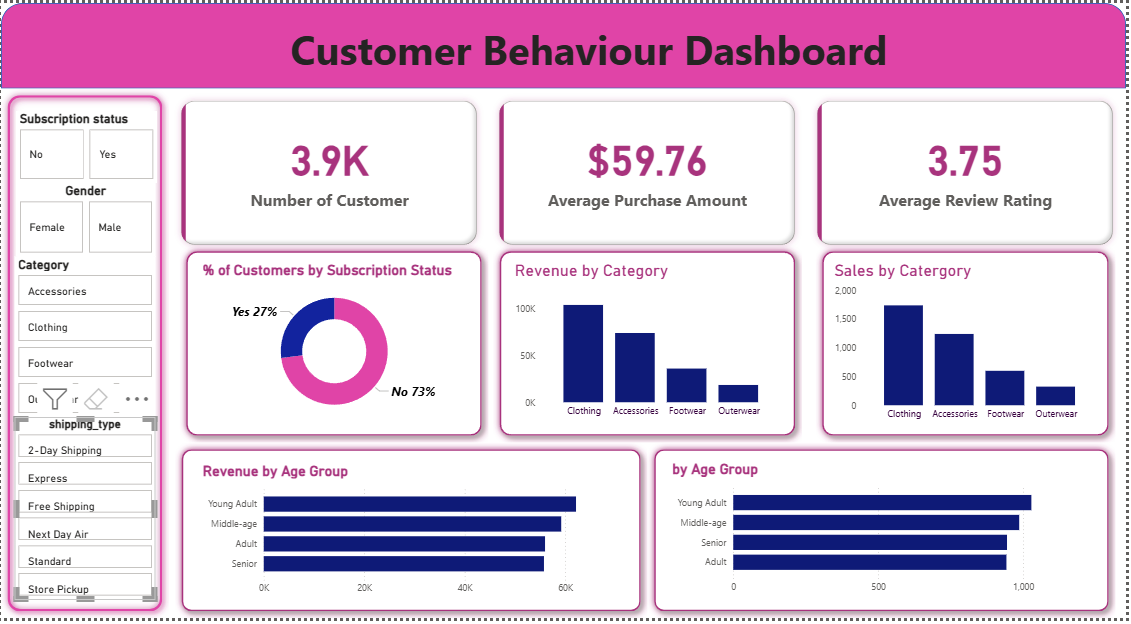

The dashboard page shown, as its layout file describes it:
{"tool":"powerbi","page":{"name":"Page 1","canvas":[1500,820],"ordinal":0},"visuals":[{"type":"cardVisual","fields":{"Data":["customer_behavior customer.Number of Customer","customer_behavior customer.Average Purchase Amount","customer_behavior customer.Average Review Rating"]},"box":[224,114,1276,224],"z":0},{"type":"shape","box":[0,0,1500,114],"z":1000},{"type":"textbox","box":[156,20,1256,94],"z":2000},{"type":"textbox","box":[0,172,157,280],"z":3000},{"type":"shape","box":[238,322,412,264],"z":4000},{"type":"donutChart","title":"% of  Customers by Subscription Status","fields":{"Category":["customer_behavior customer.subscription_status"],"Y":["CountNonNull(customer_behavior customer.customer_id)"]},"box":[264,344,360,218],"z":5000},{"type":"shape","box":[656,322,412,264],"z":6000},{"type":"shape","box":[1086,322,400,264],"z":7000},{"type":"clusteredColumnChart","title":"Revenue by Category","fields":{"Y":["Sum(customer_behavior customer.purchase_amount_usd)"],"Category":["customer_behavior customer.category"]},"box":[680,344,364,218],"z":8000},{"type":"clusteredColumnChart","title":"Sales by Catergory","fields":{"Category":["customer_behavior customer.category"],"Y":["CountNonNull(customer_behavior customer.customer_id)"]},"box":[1106,344,360,222],"z":9000},{"type":"shape","box":[0,114,224,706],"z":10000},{"type":"advancedSlicerVisual","fields":{"Values":["customer_behavior customer.subscription_status"]},"box":[20,144,188,96],"z":11000},{"type":"advancedSlicerVisual","fields":{"Values":["customer_behavior customer.gender"]},"box":[20,240,186,98],"z":12000},{"type":"advancedSlicerVisual","title":"Category","fields":{"Values":["customer_behavior customer.category"]},"box":[18,338,188,214],"z":13000},{"type":"advancedSlicerVisual","fields":{"Values":["customer_behavior customer.shipping_type"]},"box":[18,552,188,244],"z":14000},{"type":"shape","box":[232,586,630,234],"z":15000},{"type":"clusteredBarChart","title":"Revenue by Age Group","fields":{"Y":["Sum(customer_behavior customer.purchase_amount_usd)"],"Category":["customer_behavior customer.age-group"]},"box":[264,612,570,186],"z":16000},{"type":"shape","box":[862,586,624,234],"z":17000},{"type":"clusteredBarChart","title":"by Age Group","fields":{"Category":["customer_behavior customer.age-group"],"Y":["CountNonNull(customer_behavior customer.customer_id)"]},"box":[890,610,570,186],"z":18000}]}

Visuals, with their boxes in screenshot pixels (x1, y1, x2, y2), scaled from the page's 1500x820 canvas onto the 1131x624 screenshot:
cardVisual - customer_behavior customer.Number of Customer x customer_behavior customer.Average Purchase Amount: bbox=[169, 87, 1130, 257]
shape: bbox=[0, 0, 1130, 87]
textbox: bbox=[118, 15, 1065, 87]
textbox: bbox=[0, 131, 118, 344]
shape: bbox=[179, 245, 490, 446]
"% of  Customers by Subscription Status" donutChart: bbox=[199, 262, 470, 428]
shape: bbox=[495, 245, 805, 446]
shape: bbox=[819, 245, 1120, 446]
"Revenue by Category" clusteredColumnChart: bbox=[513, 262, 787, 428]
"Sales by Catergory" clusteredColumnChart: bbox=[834, 262, 1105, 431]
shape: bbox=[0, 87, 169, 623]
advancedSlicerVisual - customer_behavior customer.subscription_status: bbox=[15, 110, 157, 183]
advancedSlicerVisual - customer_behavior customer.gender: bbox=[15, 183, 155, 257]
"Category" advancedSlicerVisual: bbox=[14, 257, 155, 420]
advancedSlicerVisual - customer_behavior customer.shipping_type: bbox=[14, 420, 155, 606]
shape: bbox=[175, 446, 650, 623]
"Revenue by Age Group" clusteredBarChart: bbox=[199, 466, 629, 607]
shape: bbox=[650, 446, 1120, 623]
"by Age Group" clusteredBarChart: bbox=[671, 464, 1101, 606]
